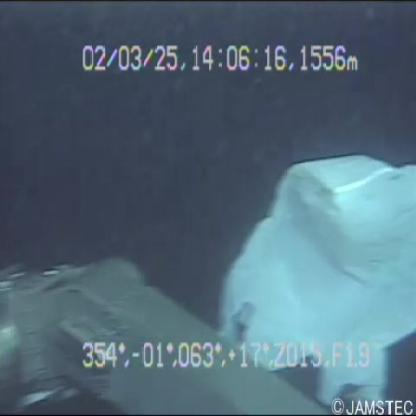Rov: (1, 241, 358, 415)
Rác: (209, 120, 416, 404)
